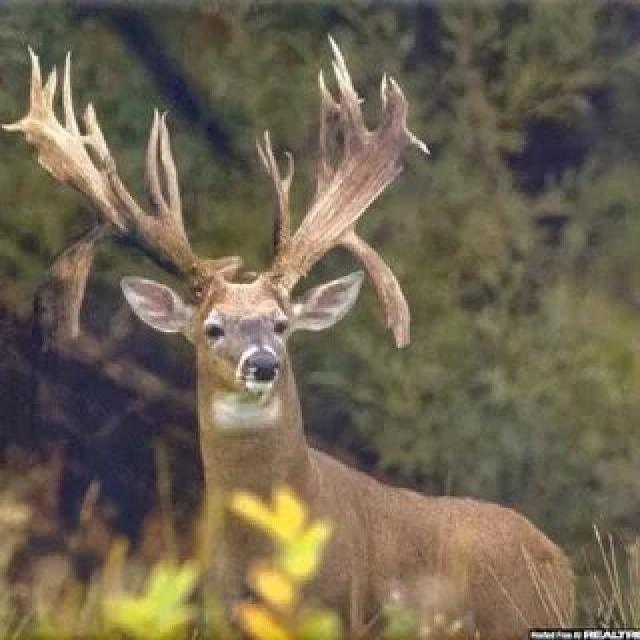deer: (0, 84, 611, 640)
